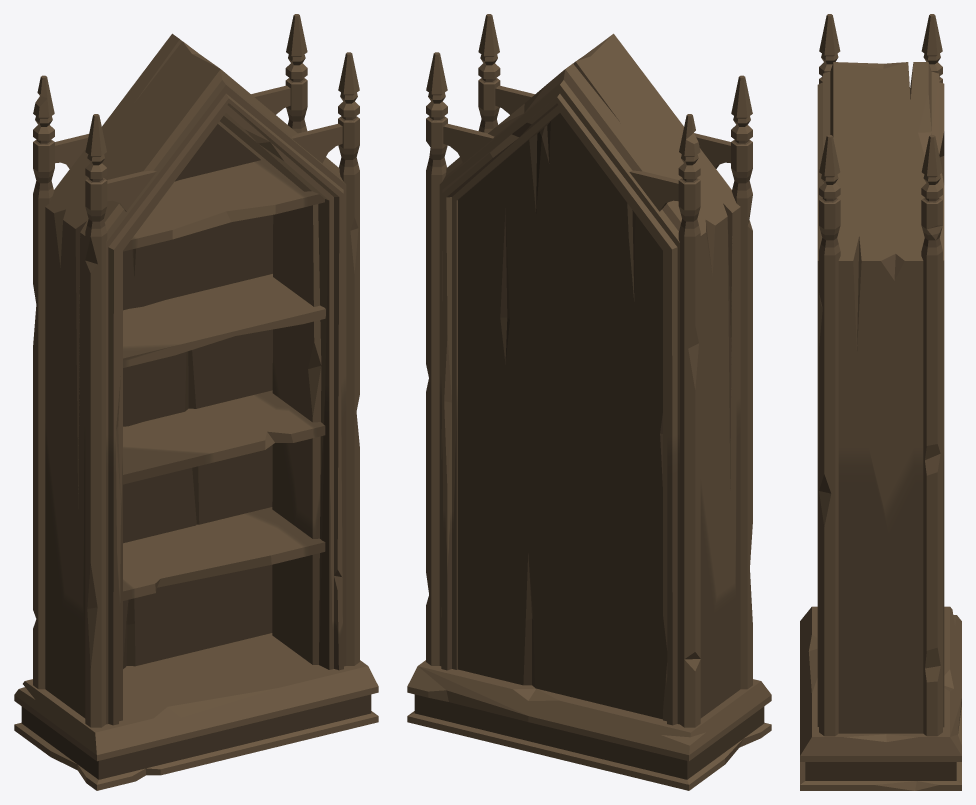
The model's file is crypt_bookshelf.gltf.
The picture shows the model from 3 angles, left to right: view 1: azimuth 30°, elevation 25°; view 2: azimuth 150°, elevation 25°; view 3: azimuth 270°, elevation 25°; orthographic projection. The views are drawn at different scales.
Parts seen in each view (by area): view 1: crypt_bookshelf; view 2: crypt_bookshelf; view 3: crypt_bookshelf.
Boxes of the visible parts, x1,y1,x2,y2 form: crypt_bookshelf: (14,14,378,790); crypt_bookshelf: (407,14,771,790); crypt_bookshelf: (800,14,961,790).
Size of the model in its own units: 1.27 by 2.9 by 0.643.
1 material, 1 textured.
